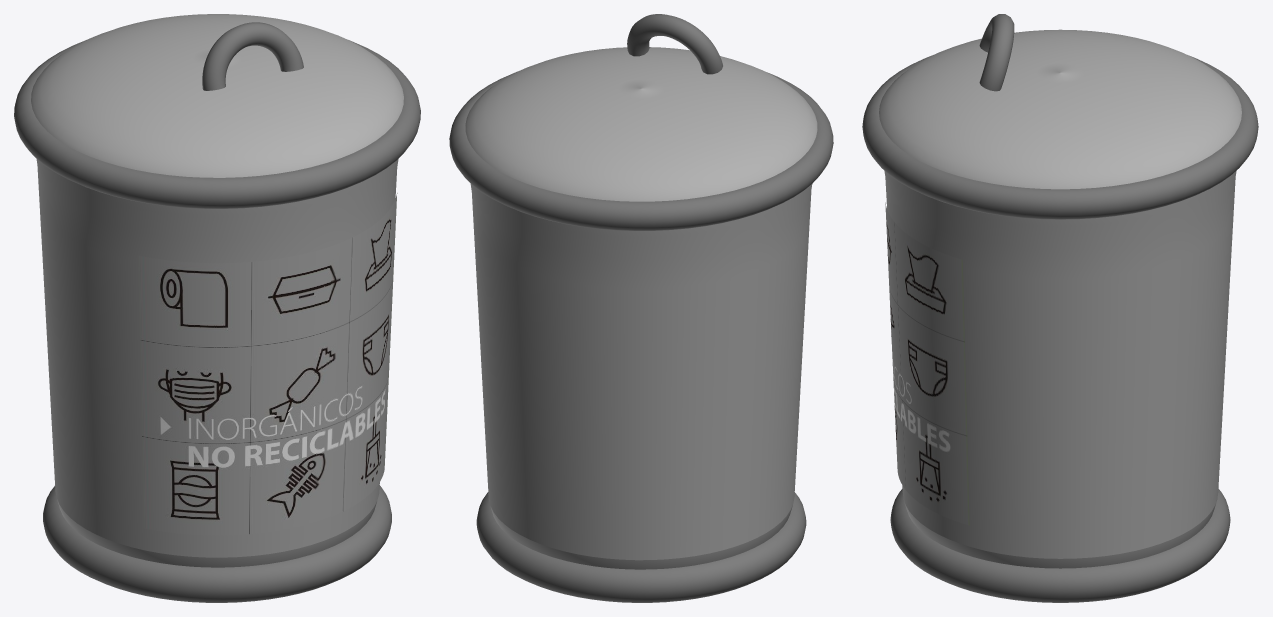
The model's file is bote_nor.gltf.
3 views of the same model, side by side, from view 1: azimuth 30°, elevation 25°; view 2: azimuth 150°, elevation 25°; view 3: azimuth 270°, elevation 25° (orthographic). The views are drawn at different scales.
Visible parts, largest first — view 1: Etiqueta, Cuerpo, Domo, Borde, Pie, Asa; view 2: Cuerpo, Domo, Borde, Pie, Asa; view 3: Cuerpo, Domo, Etiqueta, Borde, Pie, Asa.
Part boxes in pixels (x1,y1,x2,y2): Etiqueta: (138,193,397,535); Cuerpo: (36,159,398,567); Domo: (31,14,403,177); Borde: (14,40,420,208); Pie: (43,485,391,602); Asa: (202,22,303,90); Cuerpo: (470,184,812,569); Domo: (465,47,817,201); Borde: (449,71,833,230); Pie: (476,492,806,602); Asa: (627,14,722,74); Cuerpo: (884,171,1236,568); Domo: (879,29,1241,189); Etiqueta: (885,202,969,525); Borde: (862,55,1258,219); Pie: (890,488,1230,602); Asa: (979,14,1014,91).
Bounding box in the file's own units: 0.452 × 0.6524 × 0.452.
Materials: 4 (1 with a texture image).
